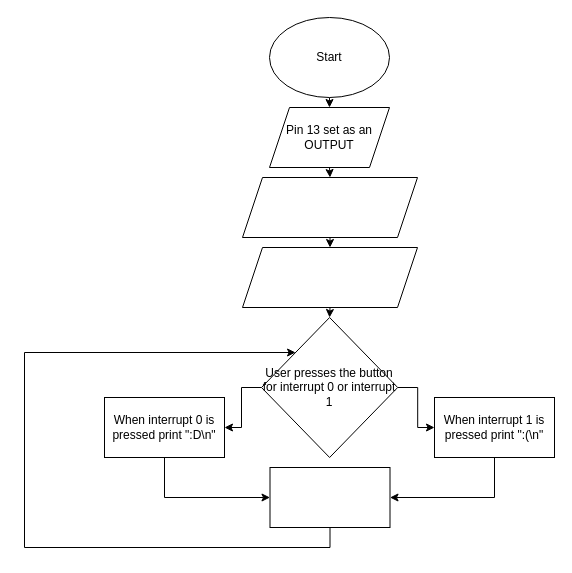
This 572x573 diagram has some shape labels left out. Here are the shapes that lost their labels. From the top down, the box of each, then its label:
(242, 176, 418, 238): Attach interrupt 0 is set to display a happy face
(242, 246, 418, 308): Attach interrupt 1 is set to display a sad face
(269, 466, 390, 528): Delay
